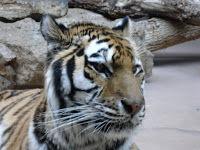Tigre: (29, 10, 152, 147)
